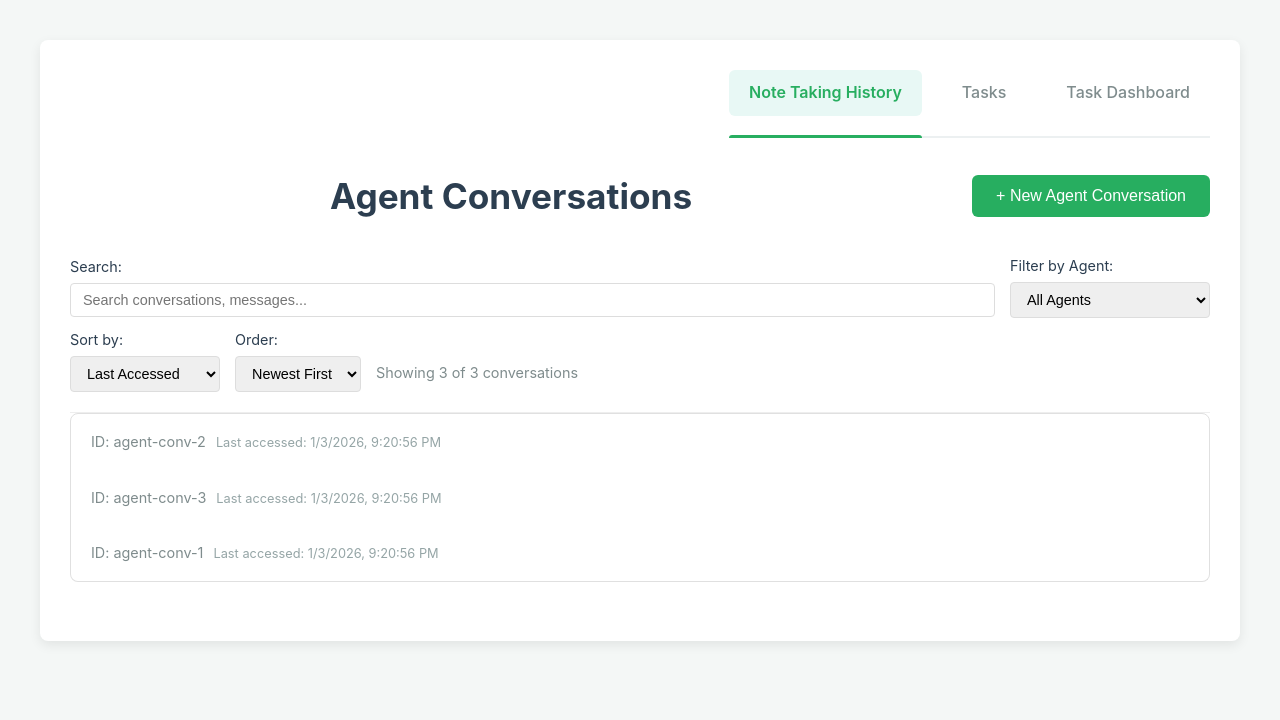
Test case: AgentConversationListView › Filtering › Search input filtering › filters conversations by agent ID
Expected: the text "ID: agent-conv-1" is shown, [91,544,203,561]
# Type agent ID in search
Type "agent-B" into the field labelled "Search:" at (532, 300), box [70,283,995,317]
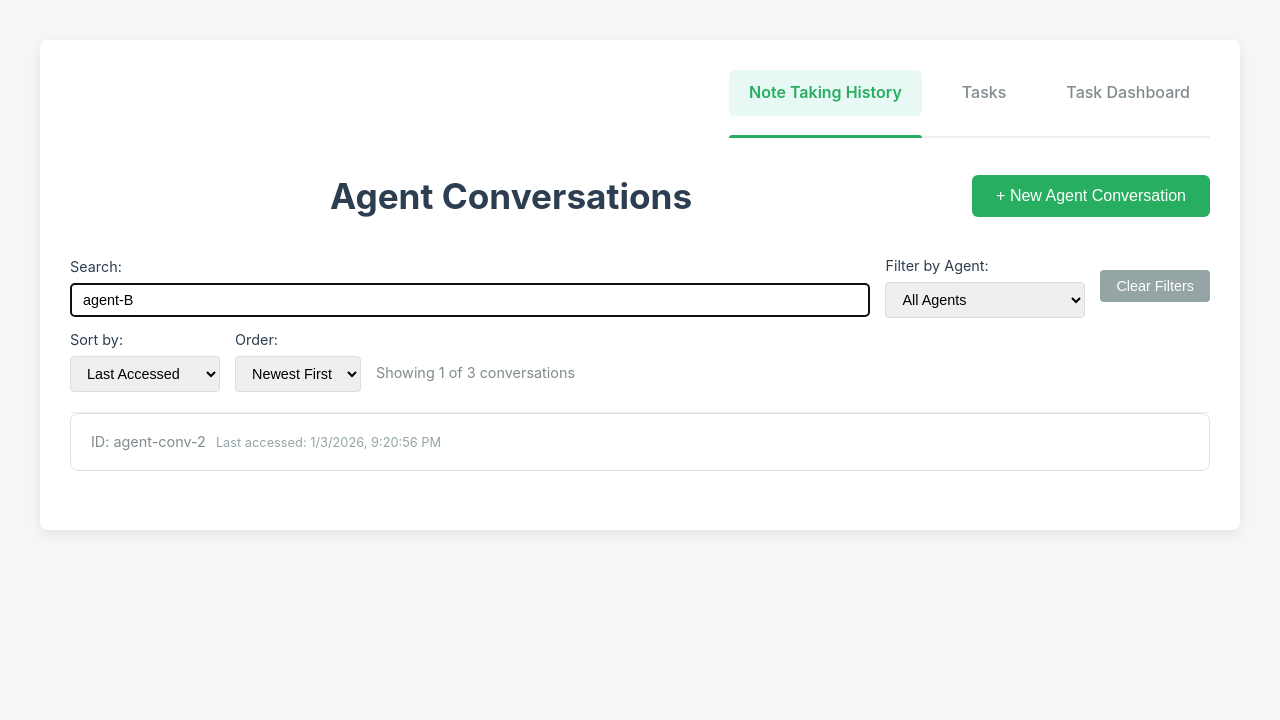
Expected: the text "ID: agent-conv-2" is shown, [91,433,206,450]
Expected: the link "ID: agent-conv-1" is gone
Expected: the link "ID: agent-conv-3" is gone
